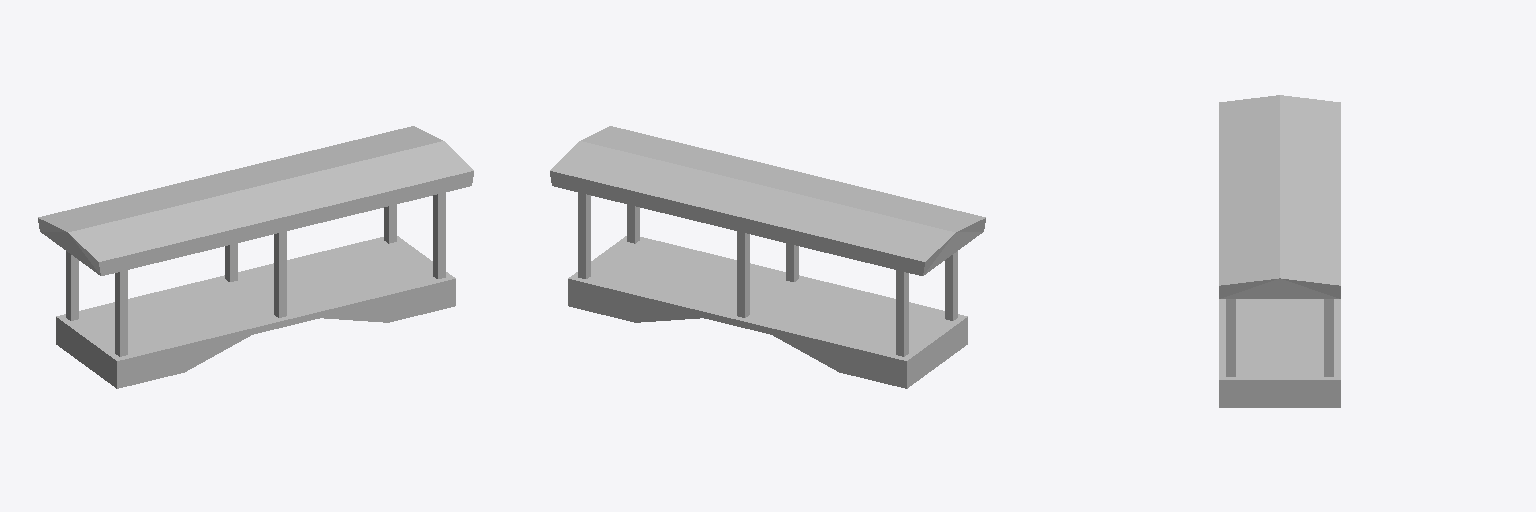
Rendered from bridge.obj.
3 views of the same model, side by side, from view 1: azimuth 30°, elevation 25°; view 2: azimuth 150°, elevation 25°; view 3: azimuth 270°, elevation 25° (orthographic).
Parts seen in each view (by area): view 1: Cube.001, Plane, Cube; view 2: Cube.001, Plane, Cube; view 3: Cube.001, Plane, Cube.
Boxes of the visible parts, x1,y1,x2,y2 form: Cube.001: [38, 126, 473, 275]; Plane: [56, 236, 455, 388]; Cube: [66, 192, 445, 356]; Cube.001: [550, 126, 985, 275]; Plane: [568, 236, 967, 388]; Cube: [578, 192, 957, 356]; Cube.001: [1219, 95, 1340, 298]; Plane: [1219, 299, 1340, 407]; Cube: [1226, 299, 1333, 376].
Size of the model in its own units: 35.47 by 12.5 by 10.